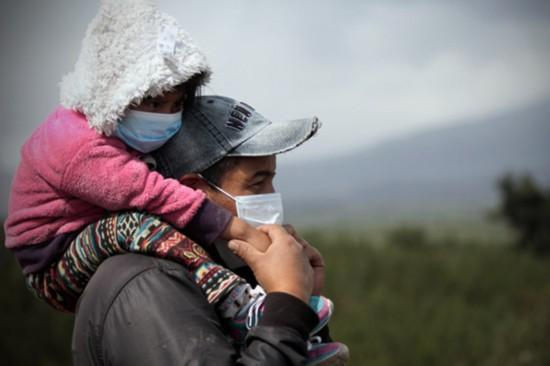OK: (205, 161, 286, 249), (111, 84, 190, 154)
